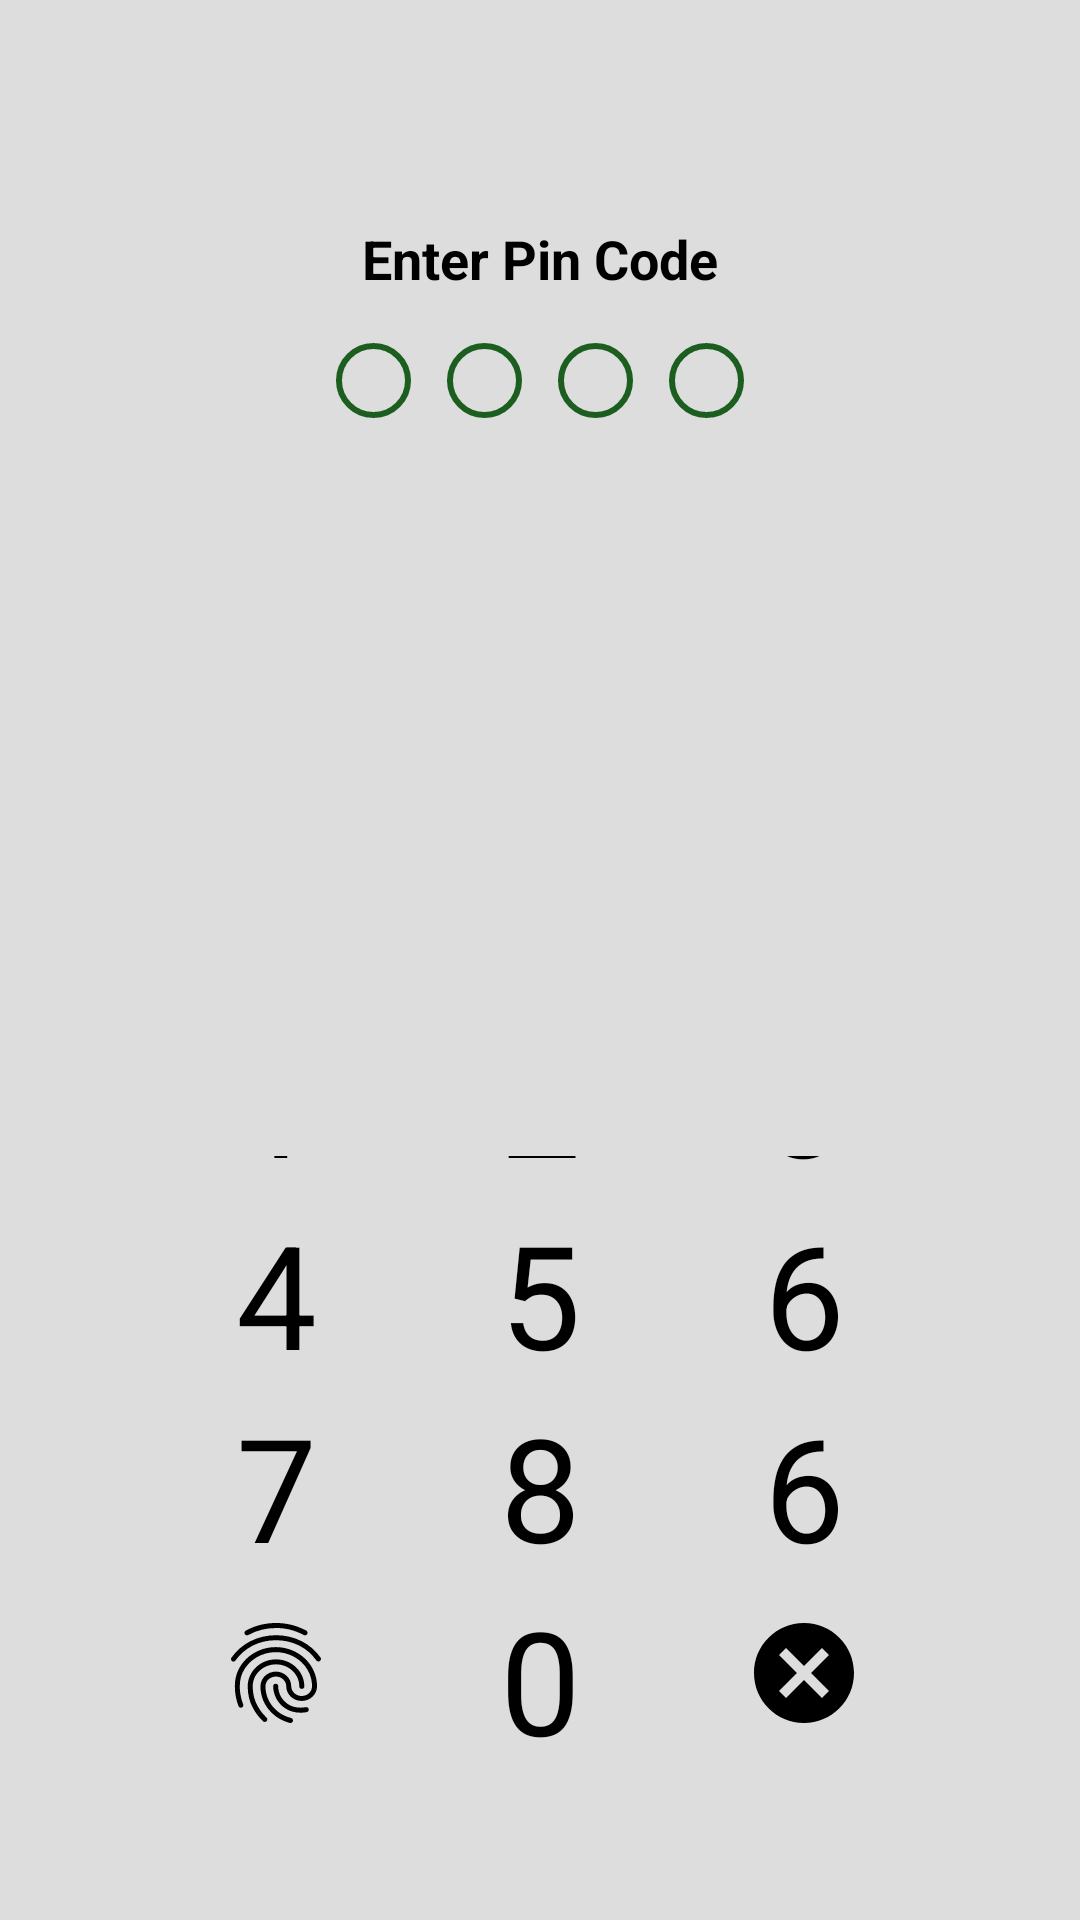

Point at icon controls on the screen. Image size 1080px x 1920px, points as (x,y).
cancel: (804,1673)
fingerprint: (276,1673)
